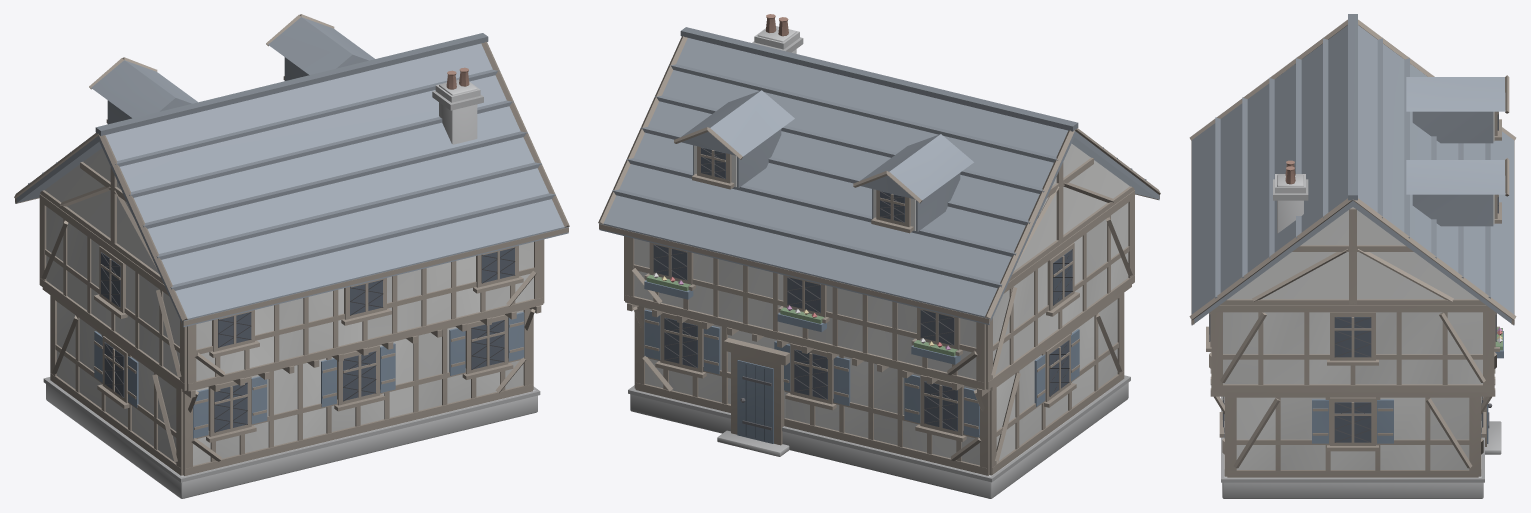
File: hall_brine.gltf
3 renders of one model, left to right at view 1: azimuth 30°, elevation 25°; view 2: azimuth 150°, elevation 25°; view 3: azimuth 270°, elevation 25°, orthographic. The views are drawn at different scales.
Parts seen in each view (by area): view 1: Body; view 2: Body; view 3: Body.
Part boxes in pixels (box(x1,y1,x2,y2)): Body: box(14, 14, 569, 498); Body: box(598, 14, 1160, 498); Body: box(1189, 14, 1516, 498).
Bounding box in the file's own units: 11.17 × 8.99 × 8.51.
